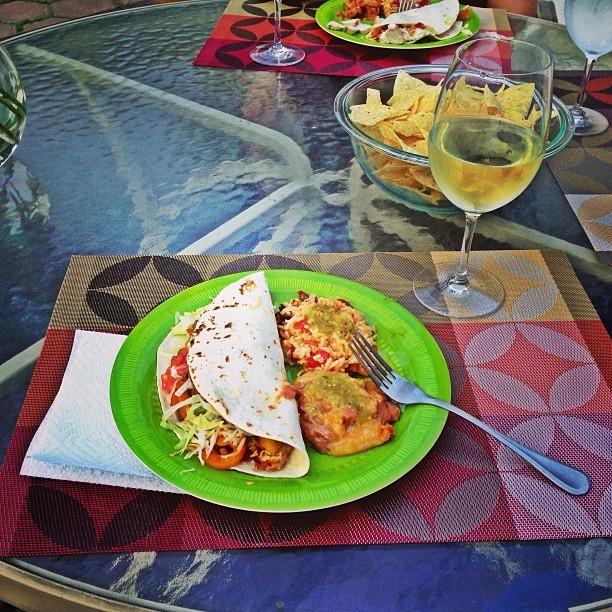lettuce: (191, 414, 225, 431), (174, 311, 195, 330), (386, 28, 406, 44), (460, 22, 472, 36), (172, 326, 188, 336)
tomato: (203, 442, 248, 470), (178, 391, 190, 420), (171, 355, 184, 366), (176, 380, 187, 390)
